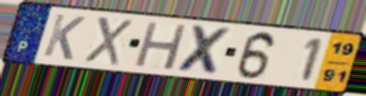1: (301, 37, 325, 83)
6: (235, 29, 279, 81)
H: (132, 20, 191, 72)
K: (40, 12, 88, 62)
X: (174, 23, 235, 78), (82, 15, 135, 68)
